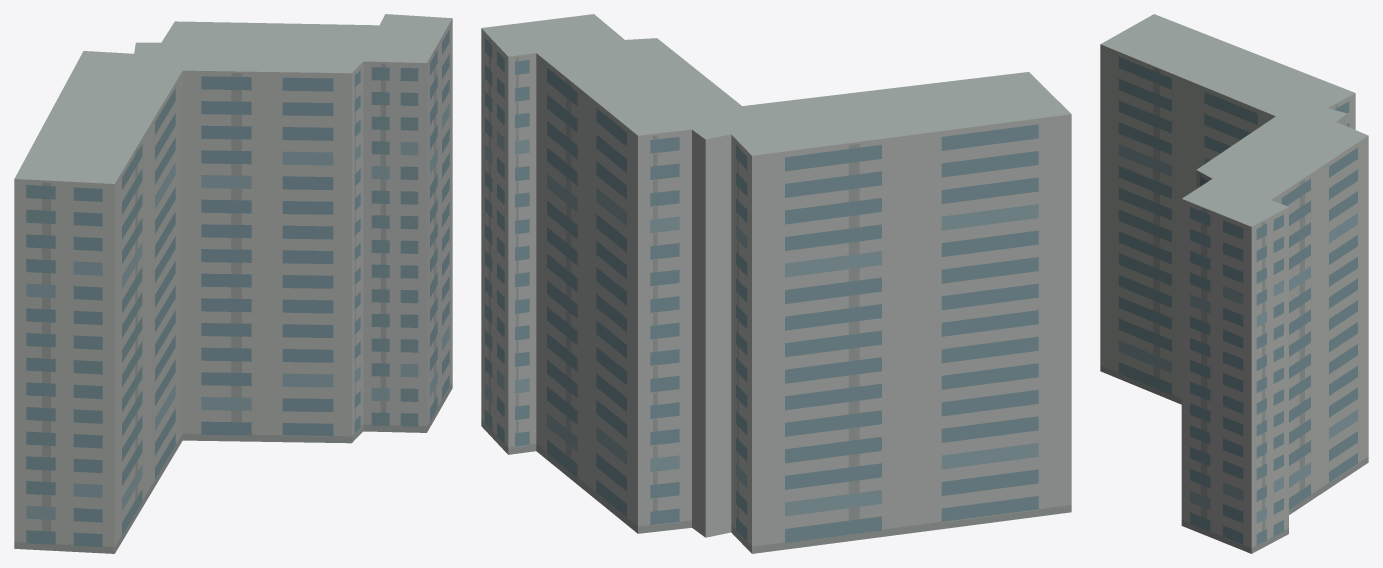
File: residential-7a2acded-17e1-41c4-bea7-c58fe7521d78.glb
3 views of the same model, side by side, from view 1: azimuth 30°, elevation 25°; view 2: azimuth 150°, elevation 25°; view 3: azimuth 270°, elevation 25° (orthographic). The views are drawn at different scales.
Visible parts, largest first — view 1: residential-7a2acded-17e1-41c4-bea7-c58fe7521d78.tmp; view 2: residential-7a2acded-17e1-41c4-bea7-c58fe7521d78.tmp; view 3: residential-7a2acded-17e1-41c4-bea7-c58fe7521d78.tmp.
Boxes of the visible parts, x1,y1,x2,y2 form: residential-7a2acded-17e1-41c4-bea7-c58fe7521d78.tmp: [14, 14, 452, 553]; residential-7a2acded-17e1-41c4-bea7-c58fe7521d78.tmp: [481, 14, 1071, 553]; residential-7a2acded-17e1-41c4-bea7-c58fe7521d78.tmp: [1100, 14, 1368, 553].
Bounding box in the file's own units: 63.86 × 45.75 × 34.
